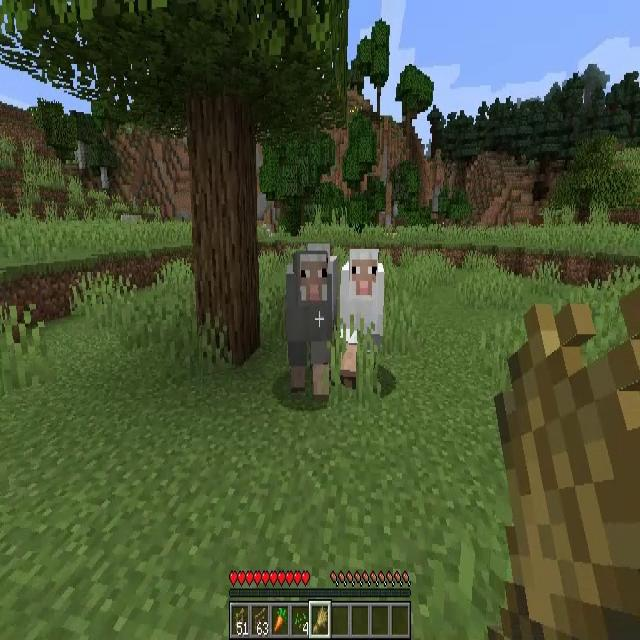sheep: (286, 248, 336, 396), (340, 250, 385, 379)
